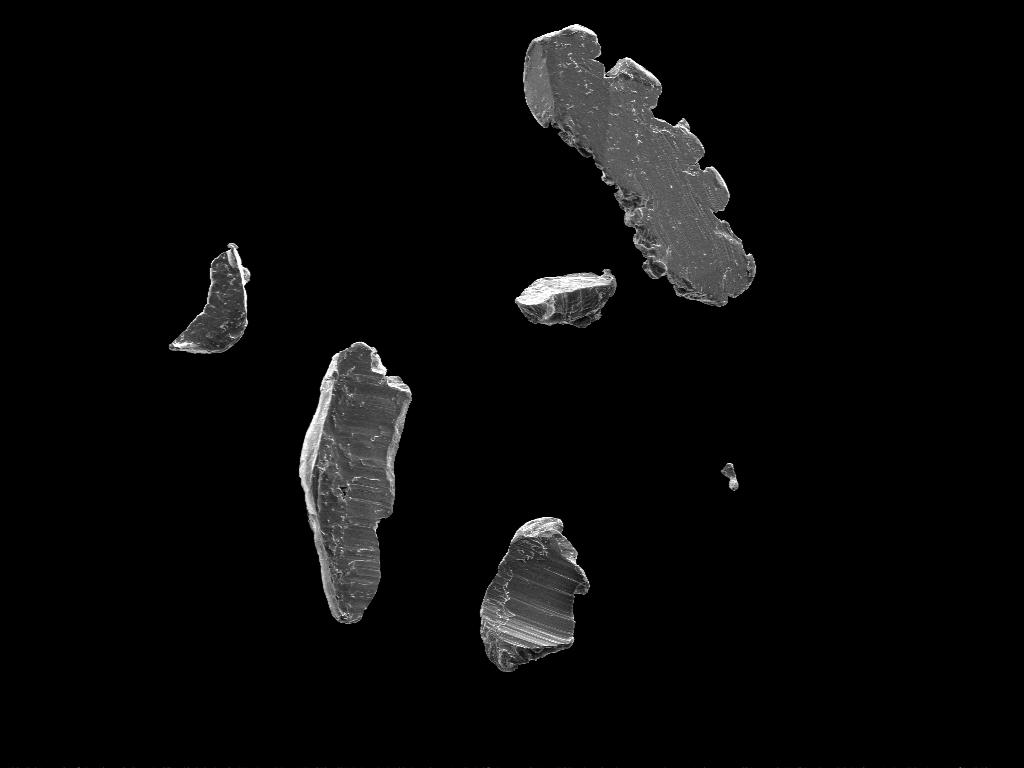Powder: (524, 26, 756, 306), (300, 342, 412, 623), (480, 518, 590, 671), (170, 242, 250, 353), (516, 270, 616, 327), (722, 462, 738, 489)
